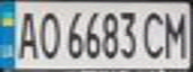3: (118, 7, 142, 61)
6: (81, 7, 103, 61), (63, 7, 84, 61)
8: (100, 7, 121, 61)
A: (12, 7, 42, 61)
C: (139, 7, 169, 60)
M: (160, 7, 193, 60)
O: (33, 7, 63, 61)
